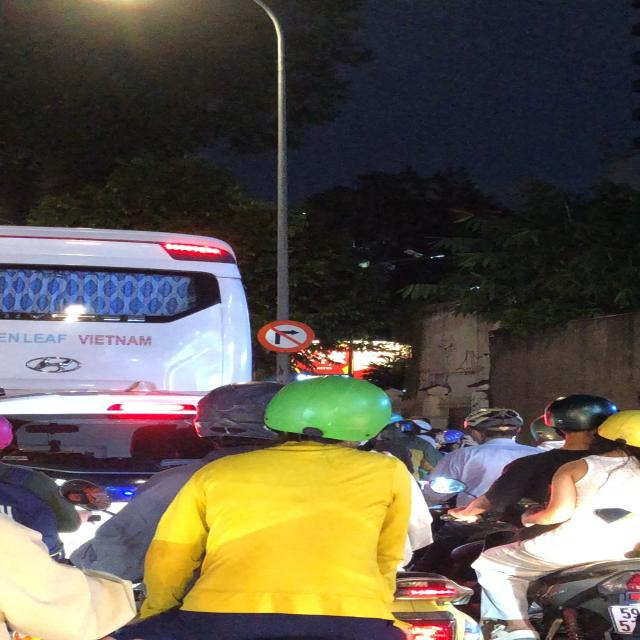Bien bao cam re phai: (253, 317, 322, 357)
